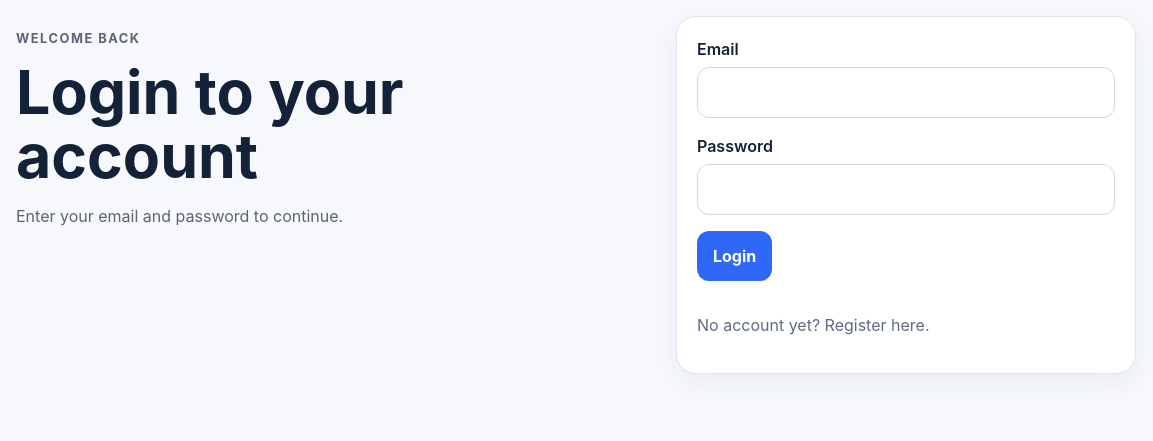
Test: LoginPage › shows validation errors for empty fields
Click the button "Login": (735, 256) [697,231,772,281]
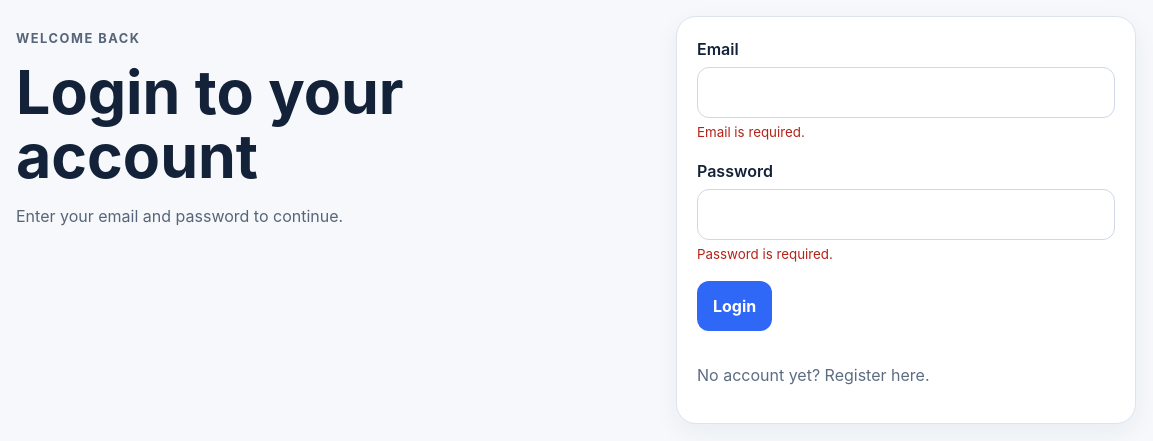
Expected: the text "Email is required." is shown, [697,124,805,140]
Expected: the text "Password is required." is shown, [697,246,833,262]
